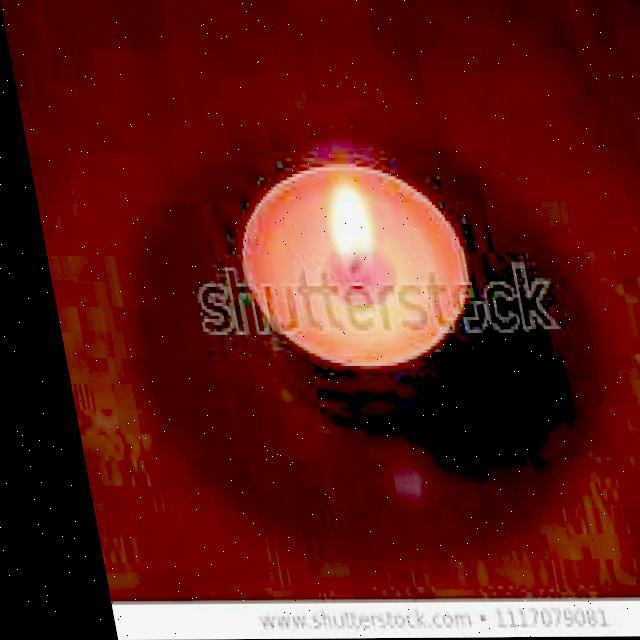Fire: (298, 180, 369, 267)
